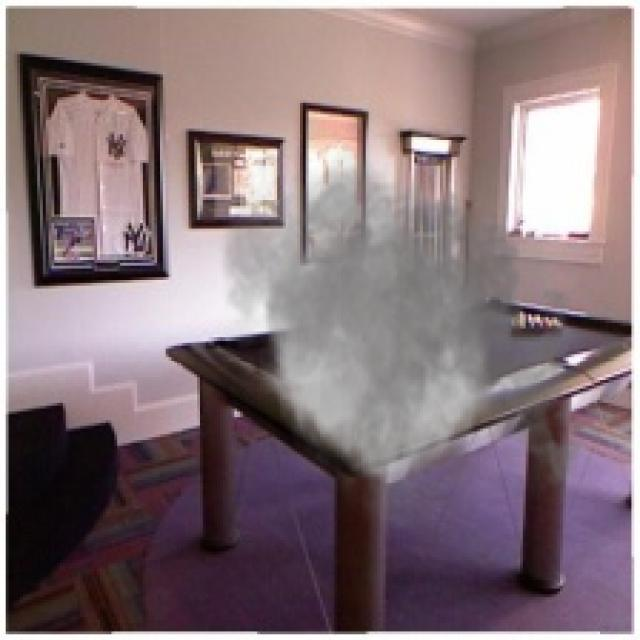smoke: (206, 135, 597, 554)
